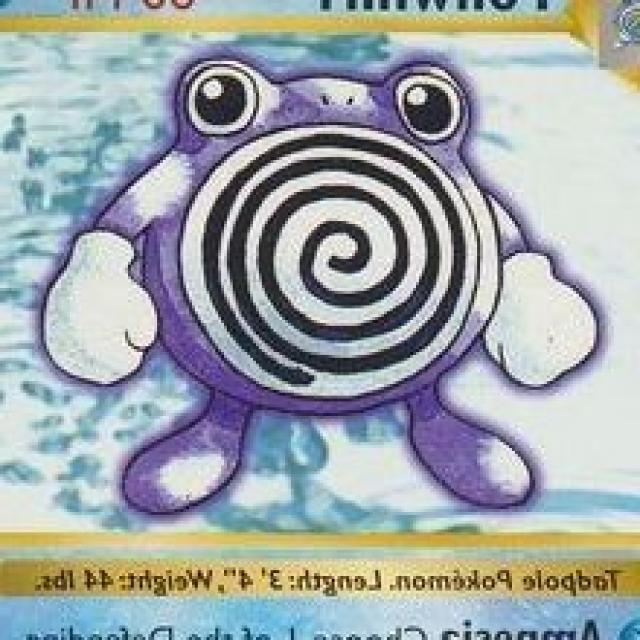Poliwhirl: (51, 61, 566, 523)
